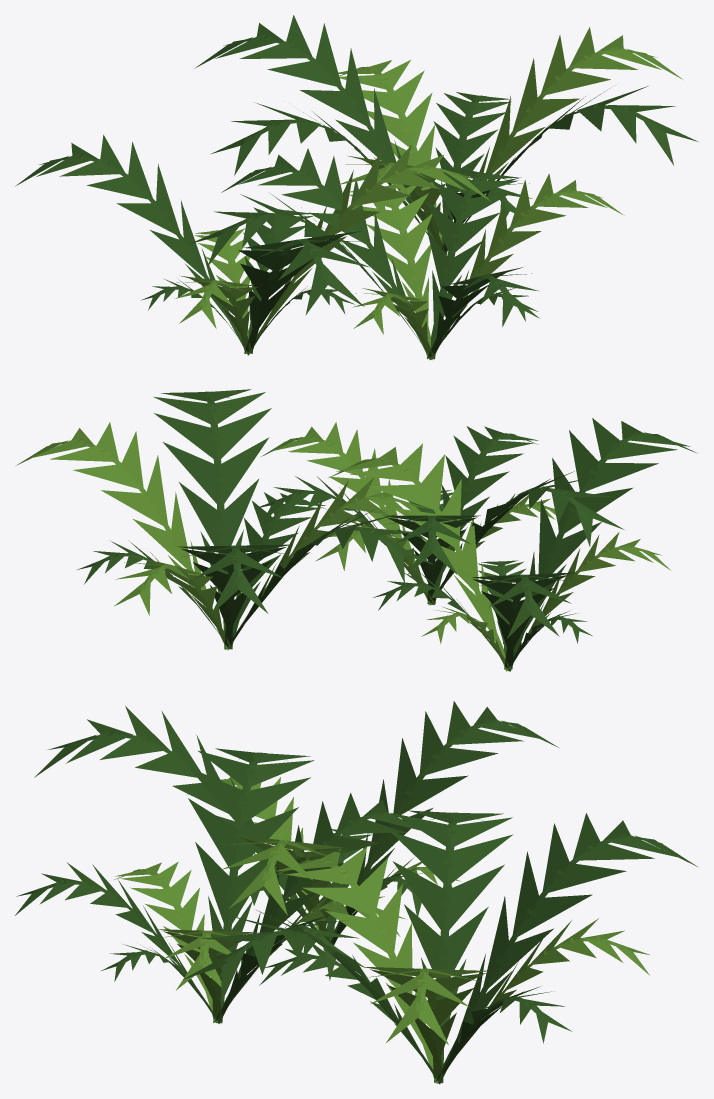
The model's file is shrine-ferns.obj.
3 views of the same model, one above another, from view 1: azimuth 30°, elevation 25°; view 2: azimuth 150°, elevation 25°; view 3: azimuth 270°, elevation 25° (orthographic). The views are drawn at different scales.
Bounding box in the file's own units: 1.95 × 0.5648 × 1.74.
